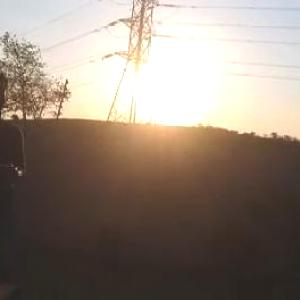follow: (0, 67, 34, 299)
